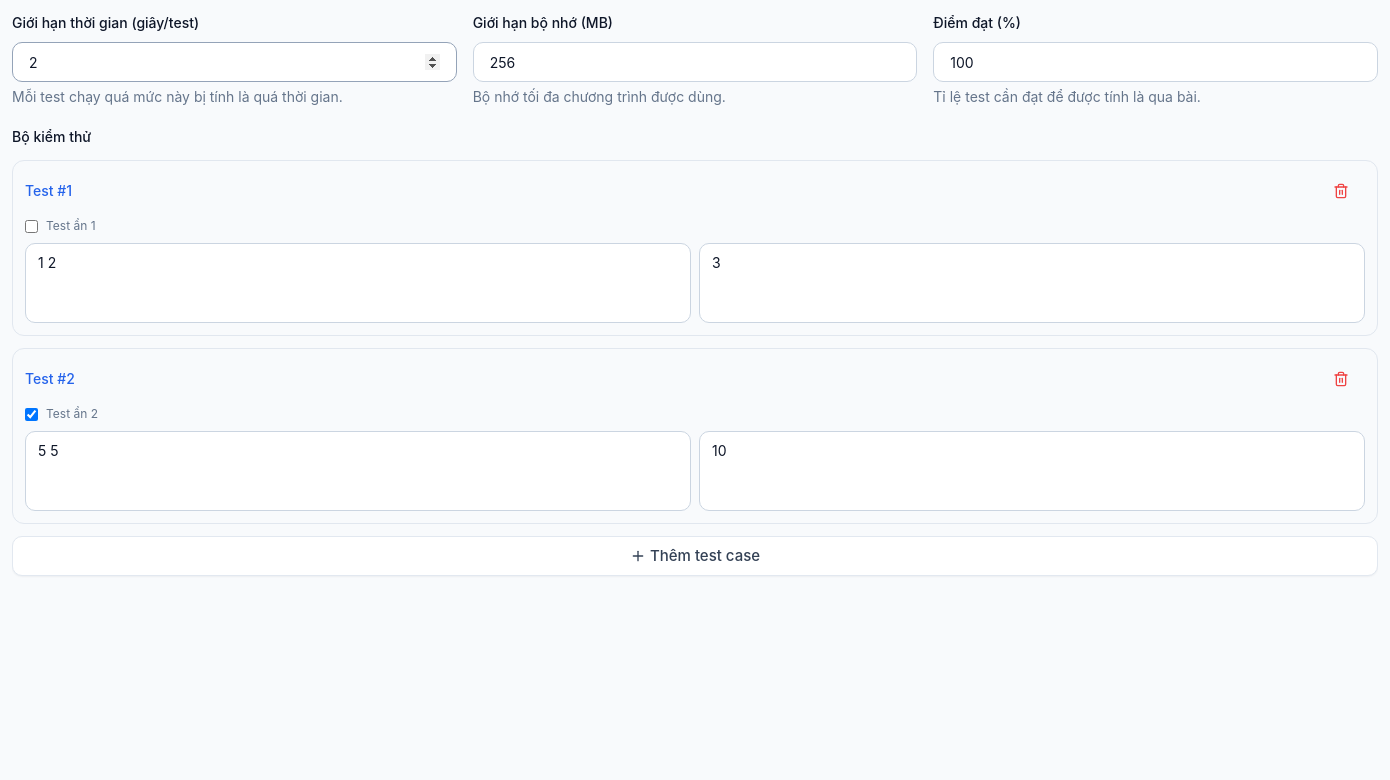
ExerciseSettingsEditor › bộ nhớ 1500 MB (trần backend) hợp lệ, 1501 thì chặn
This screenshot has width=1390, height=780.
Expected: the text box showing "5 5" is shown, [25,431,691,511]
Replace the text in the number field labelled "Giới hạn bộ nhớ (MB)" with "1500" at (695, 62), box [473,42,917,82]
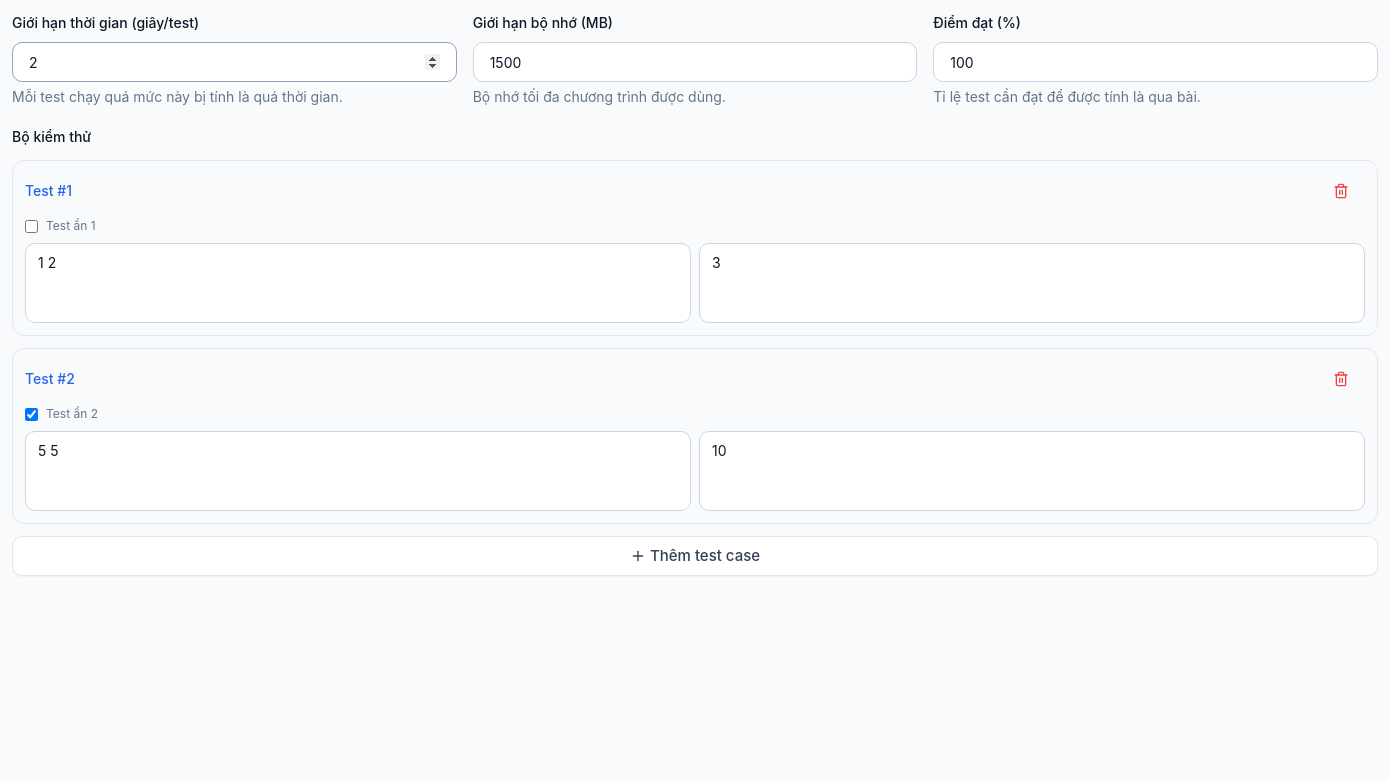
Replace the text in the number field labelled "Giới hạn bộ nhớ (MB)" with "1501" at (695, 62), box [473,42,917,82]
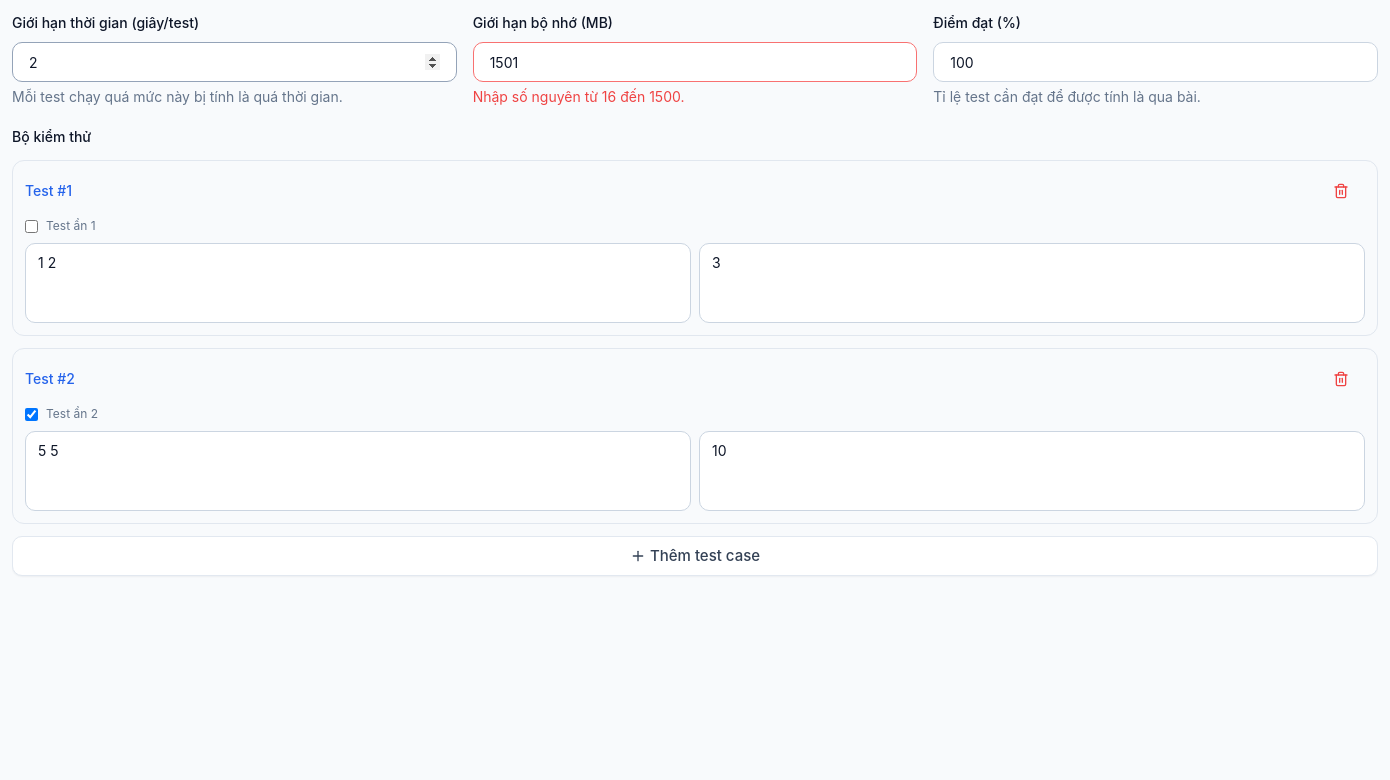
Result: the text "Nhập số nguyên từ 16 đến 1500." is shown at [473,88,684,105]
